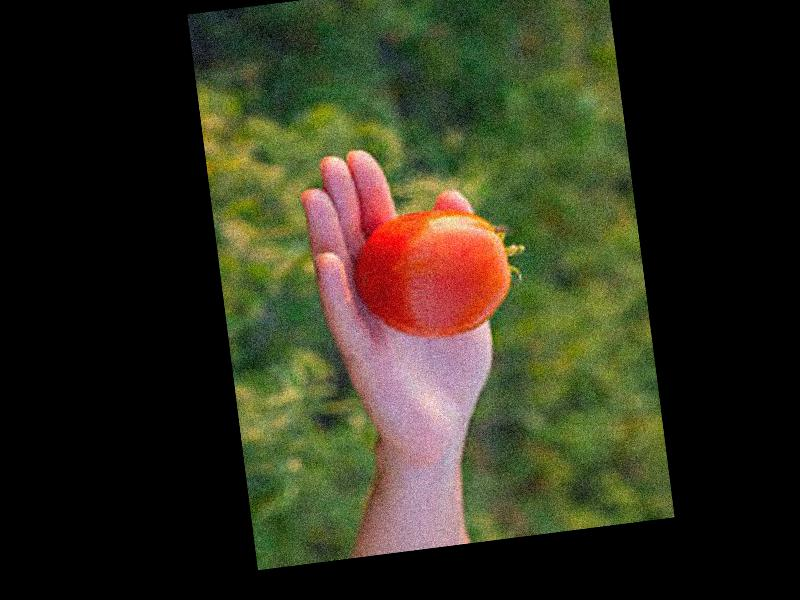Tomato: (345, 203, 515, 346)
